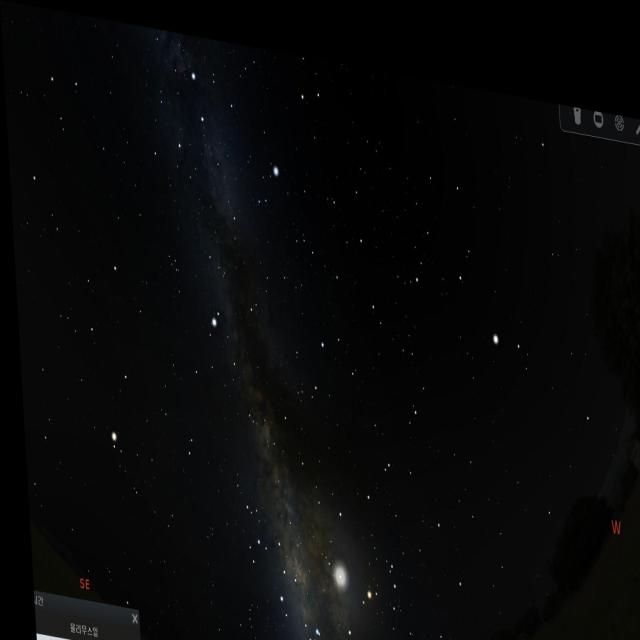aquila: (167, 258, 267, 418)
bootes: (410, 139, 527, 367)
cygnus: (165, 49, 245, 246)
lyra: (254, 149, 284, 212)
moon: (301, 507, 360, 612)
sagittarius: (220, 471, 280, 590)
scorpius: (289, 525, 403, 640)
